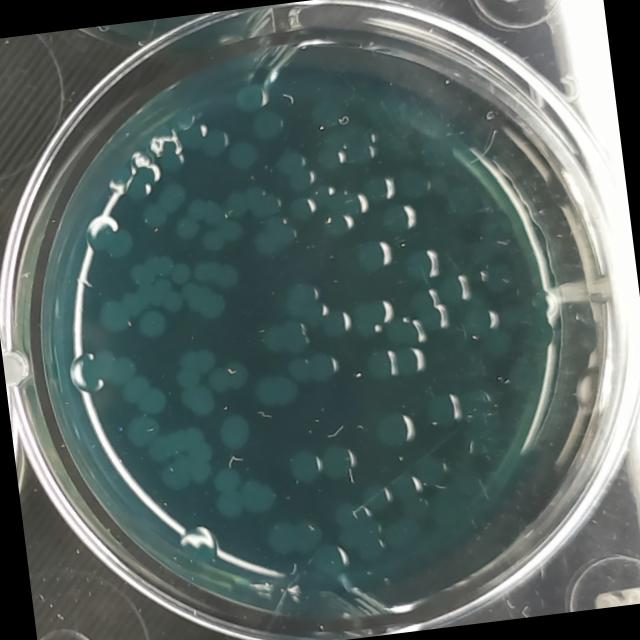other: (158, 440, 216, 492), (262, 513, 326, 558), (212, 476, 277, 520), (284, 344, 344, 390), (279, 276, 329, 330), (137, 178, 190, 226), (248, 213, 302, 260), (408, 282, 452, 336), (178, 277, 230, 322), (88, 342, 140, 387), (399, 239, 446, 286), (120, 371, 168, 414), (374, 404, 419, 448), (124, 250, 176, 286), (250, 371, 300, 408), (317, 437, 359, 481), (188, 255, 242, 288), (381, 194, 420, 238), (214, 408, 254, 450), (358, 292, 398, 334), (207, 357, 252, 394), (200, 218, 247, 253), (423, 385, 463, 426), (283, 446, 323, 486), (123, 409, 163, 449), (98, 221, 138, 261), (353, 234, 393, 274), (180, 380, 220, 419), (464, 300, 502, 338), (249, 106, 289, 142), (362, 344, 399, 382), (231, 78, 270, 114), (96, 297, 135, 333), (224, 136, 262, 172), (316, 304, 354, 340), (313, 542, 351, 578), (132, 305, 169, 341), (272, 143, 309, 178), (359, 170, 396, 203), (358, 479, 393, 513), (392, 468, 424, 500), (396, 343, 427, 376), (210, 463, 243, 492), (287, 193, 319, 221)
